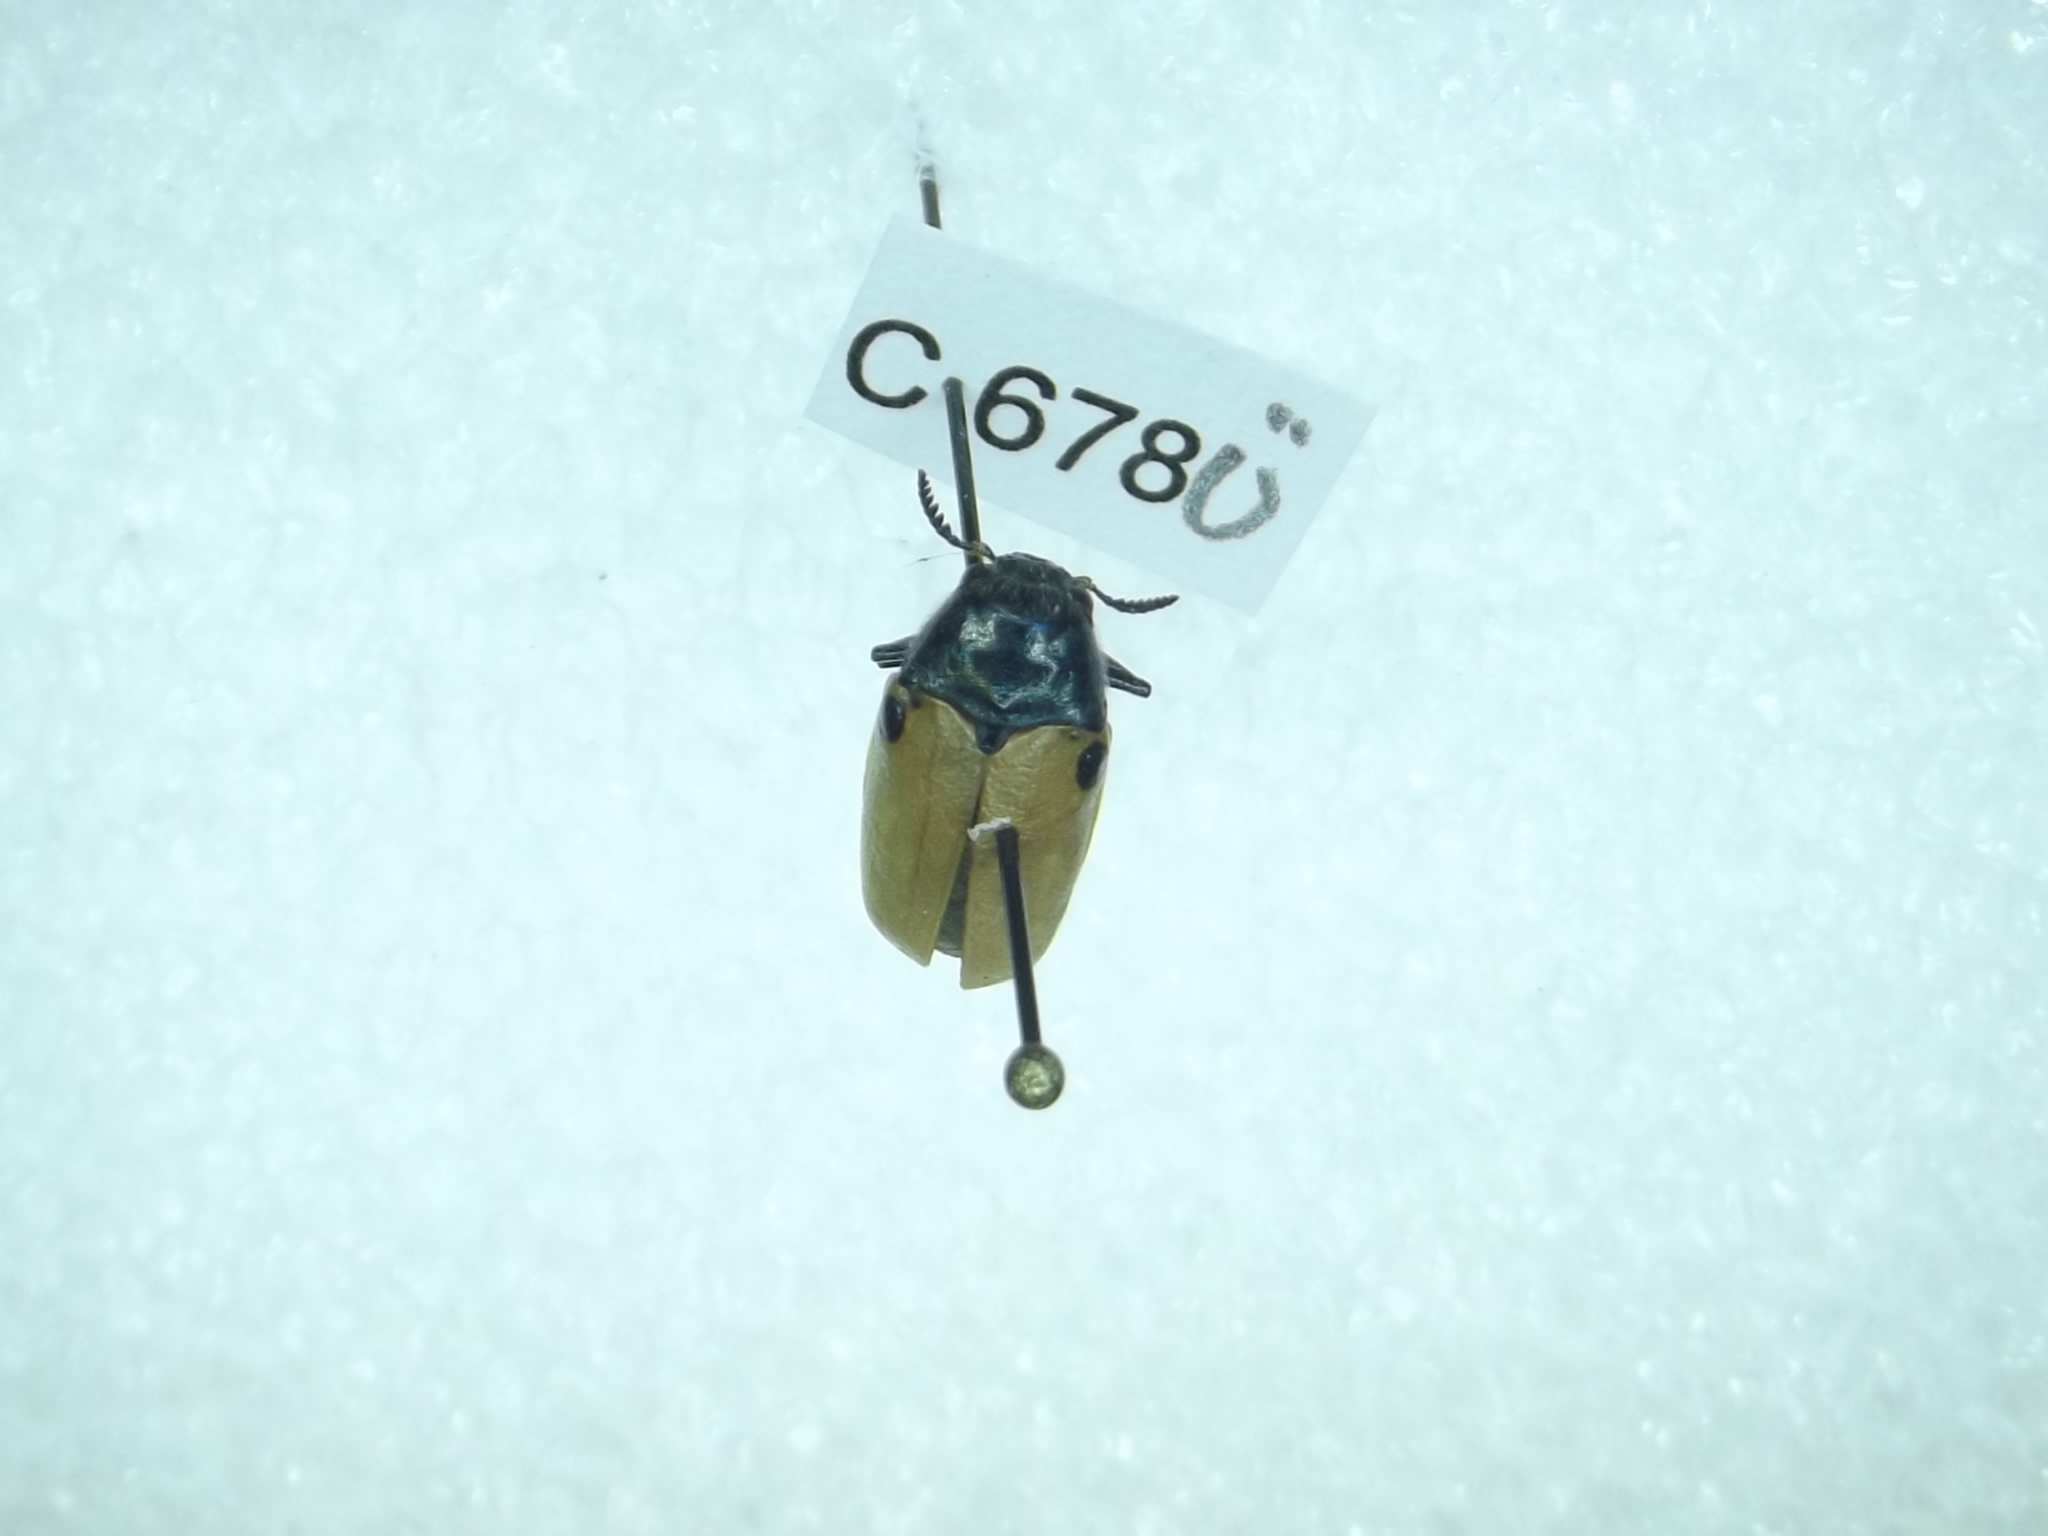Labidostomis_longimana: (868, 457, 1176, 1007)
